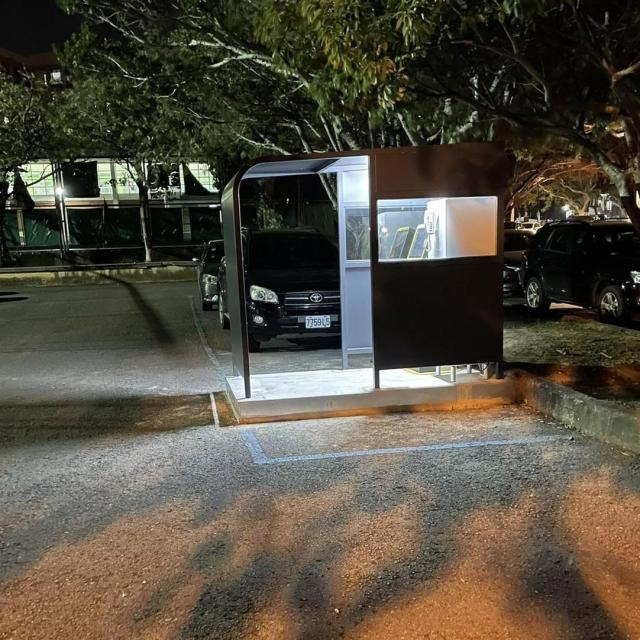W: (303, 312, 335, 329)
